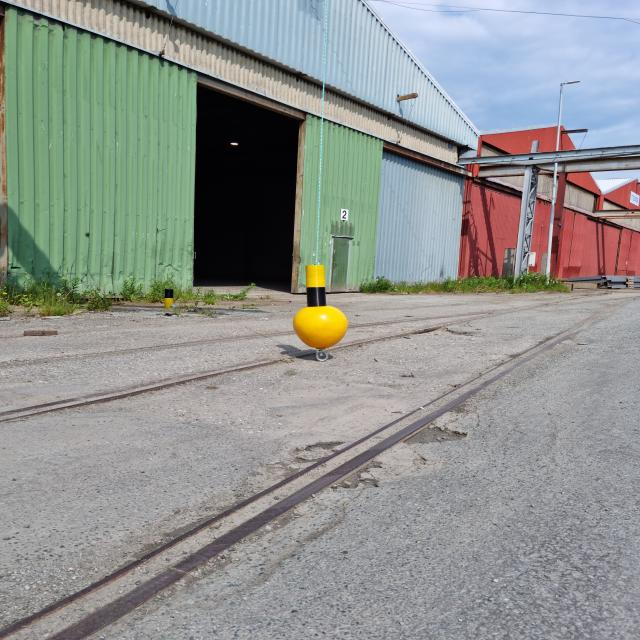west: (294, 266, 350, 344)
